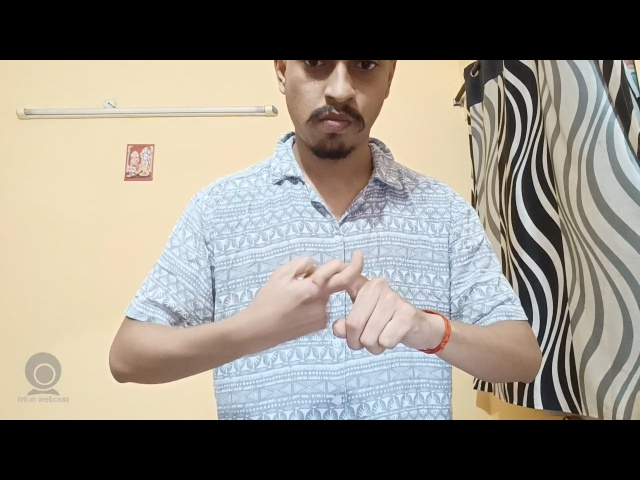Friend: (256, 236, 427, 373)
